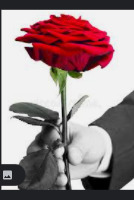RedRose: (16, 13, 114, 77)
